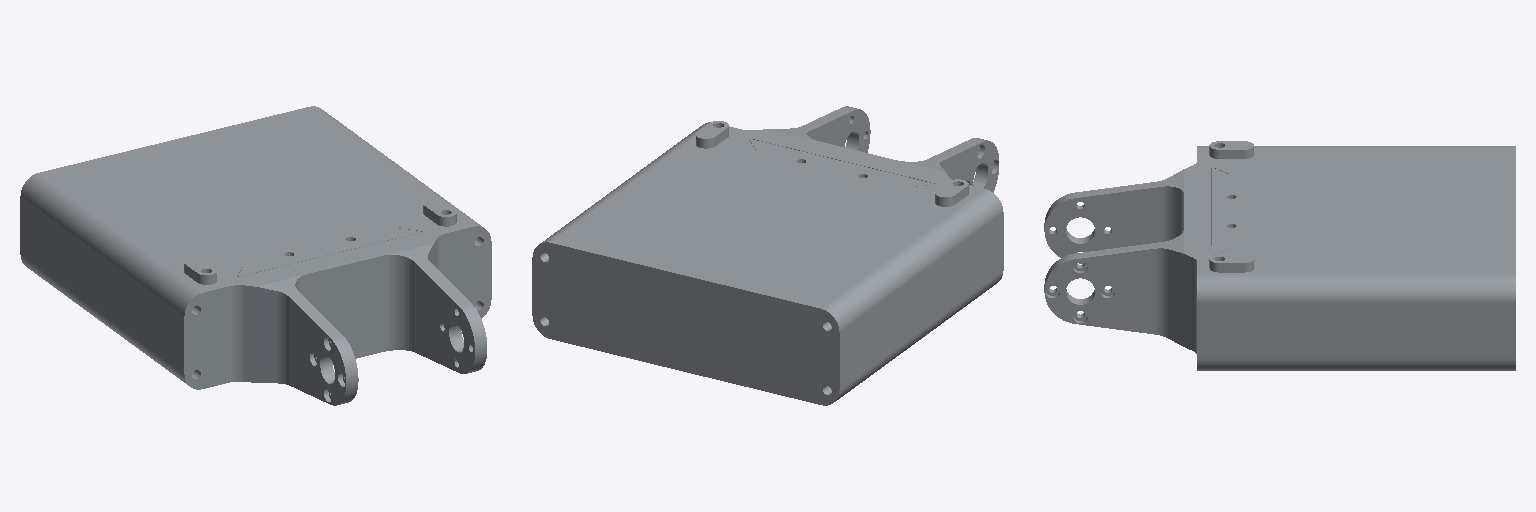
The robot description file, URDF, robot "sysID_XM430-W350":
<?xml version="1.0" ?>
<robot name="sysID_XM430-W350">
  <mujoco>
    <compiler strippath="false" balanceinertia="true" discardvisual="false"/>
  </mujoco>
  <link name="xm430">
    <visual>
      <origin xyz="0 0 0" rpy="0 -0 0"/>
      <geometry>
        <mesh filename="../assemblies/sysID_XM430-W350/meshes/xm430_visual.stl"/>
      </geometry>
      <material name="xm430_material">
        <color rgba="0.91426034379578891009 0.70000842084638215113 0.13024790887542933571 1.0"/>
      </material>
    </visual>
    <inertial>
      <origin xyz="0.071958135955560123542 0.017445641259993489858 0.0055435138757473417445" rpy="0 0 0"/>
      <mass value="0.10345000000444971866"/>
      <inertia ixx="3.2324316568160294005e-05" ixy="-6.1940121394904748499e-06" ixz="-3.114867425686561836e-08" iyy="3.2377737272393010296e-05" iyz="-4.6596185424276525447e-08" izz="4.8950379202494942877e-05"/>
    </inertial>
  </link>
  <link name="arm_430">
    <visual>
      <origin xyz="0 0 0" rpy="0 -0 0"/>
      <geometry>
        <mesh filename="../assemblies/sysID_XM430-W350/meshes/arm_430_visual.stl"/>
      </geometry>
      <material name="arm_430_material">
        <color rgba="0.63059283987567626983 0.65298952457695413898 0.67418901807298270423 1.0"/>
      </material>
    </visual>
    <inertial>
      <origin xyz="-0.077790387031997226819 -1.3637865612588516472e-05 -0.019000000000000284023" rpy="0 0 0"/>
      <mass value="0.25549999999999994937"/>
      <inertia ixx="0.00024426144376379807207" ixy="9.4015858830096418247e-08" ixz="-1.3501724960961450956e-18" iyy="0.00041073874164068968065" iyz="1.4686505773996030592e-16" izz="0.00022084196523238964365"/>
    </inertial>
  </link>
  <joint name="joint_0" type="revolute">
    <origin xyz="0.093000000000000013212 0.032699857927858892725 0.0055693959459662215755" rpy="-1.570796326794896558 2.7547408798512016148e-15 -1.5707963267948912289"/>
    <parent link="xm430"/>
    <child link="arm_430"/>
    <axis xyz="0 0 1"/>
    <limit effort="1" velocity="20" lower="-1.570796326794896558" upper="1.570796326794896558"/>
    <joint_properties friction="0.0"/>
  </joint>
</robot>

--- What the picture shows (computed from the rendered views, not written in the file) ---
The picture shows the robot from 3 angles, left to right: view 1: azimuth 30°, elevation 25°; view 2: azimuth 150°, elevation 25°; view 3: azimuth 270°, elevation 25°; orthographic projection.
Robot: sysID_XM430-W350 — 2 links, 1 joints (1 revolute); root link xm430; default pose: every joint at zero.
Links seen in each view (by area): view 1: arm_430; view 2: arm_430; view 3: arm_430.
Link boxes in pixels (x1,y1,x2,y2): arm_430: [20, 106, 491, 405]; arm_430: [532, 106, 1003, 405]; arm_430: [1044, 141, 1515, 370].
Size in the robot's own frame: 0.1 by 0.137 by 0.033 metres.
1 mesh visuals loaded from 2 distinct referenced files (1 binary STL); not drawn: 1 (reference not matched to a file when rendering).